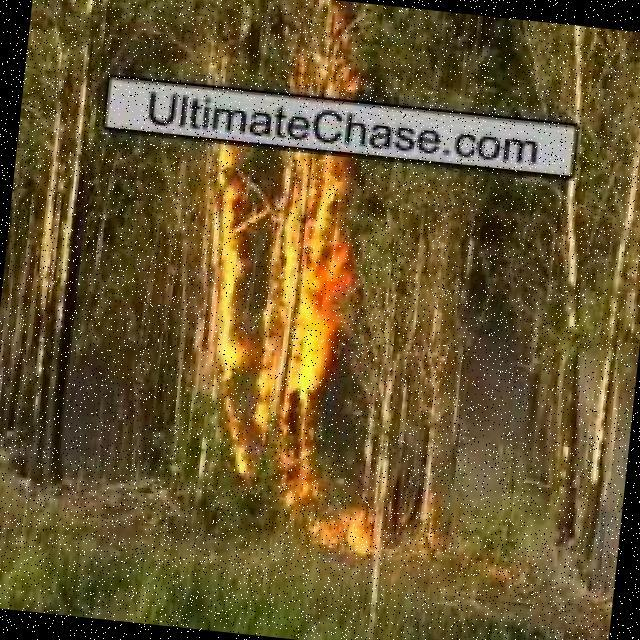Fire: (183, 143, 385, 492), (269, 498, 377, 556), (302, 13, 359, 99)
